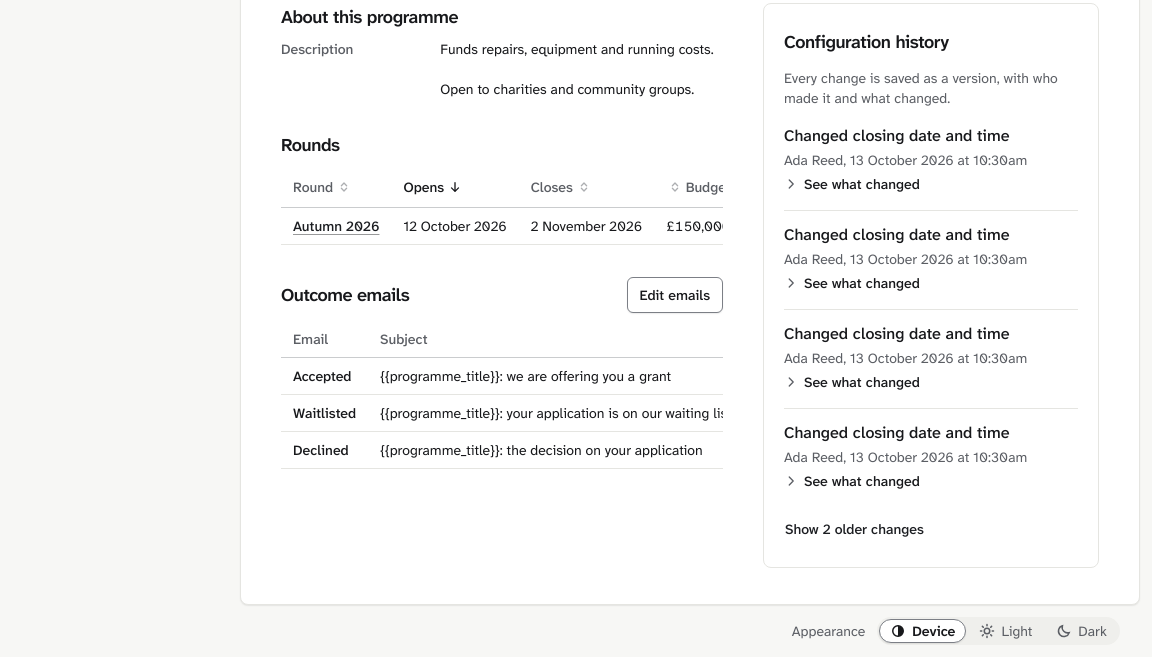
it: the configuration history › shows the latest changes and offers the older ones
This screenshot has width=1152, height=657.
(page scrolled)
Click the button "Show 2 older changes".
click(854, 529)  # box [772,511,937,547]
(page scrolled)
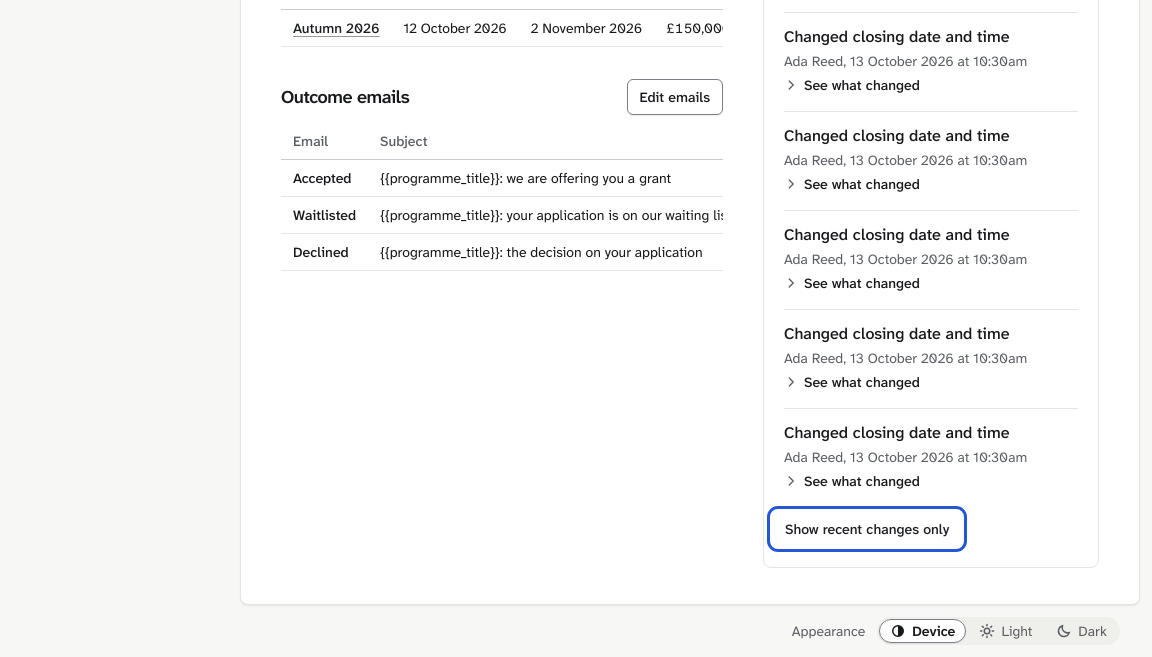
Expected: the button "Show recent changes only" is expanded, [772,511,962,547]
